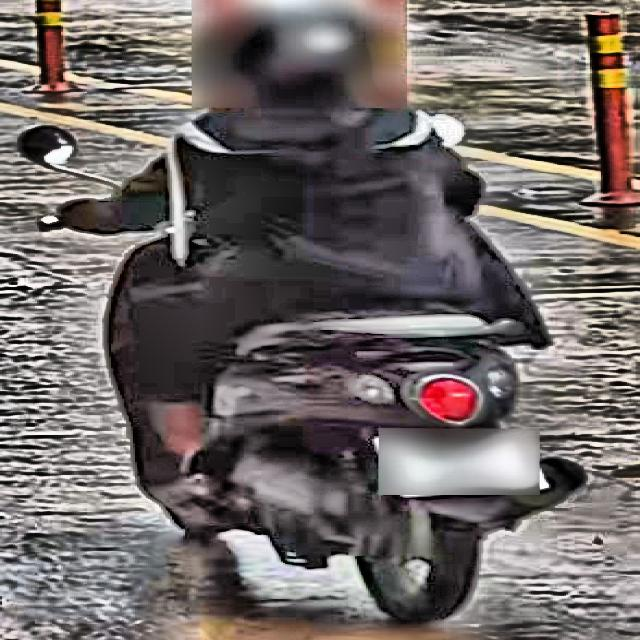motorcycle: (9, 108, 578, 622)
